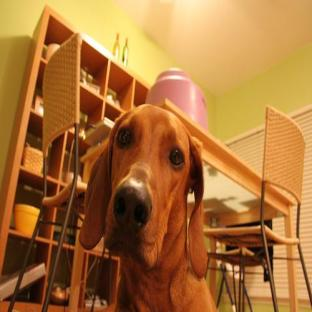Animal: (79, 105, 216, 311)
